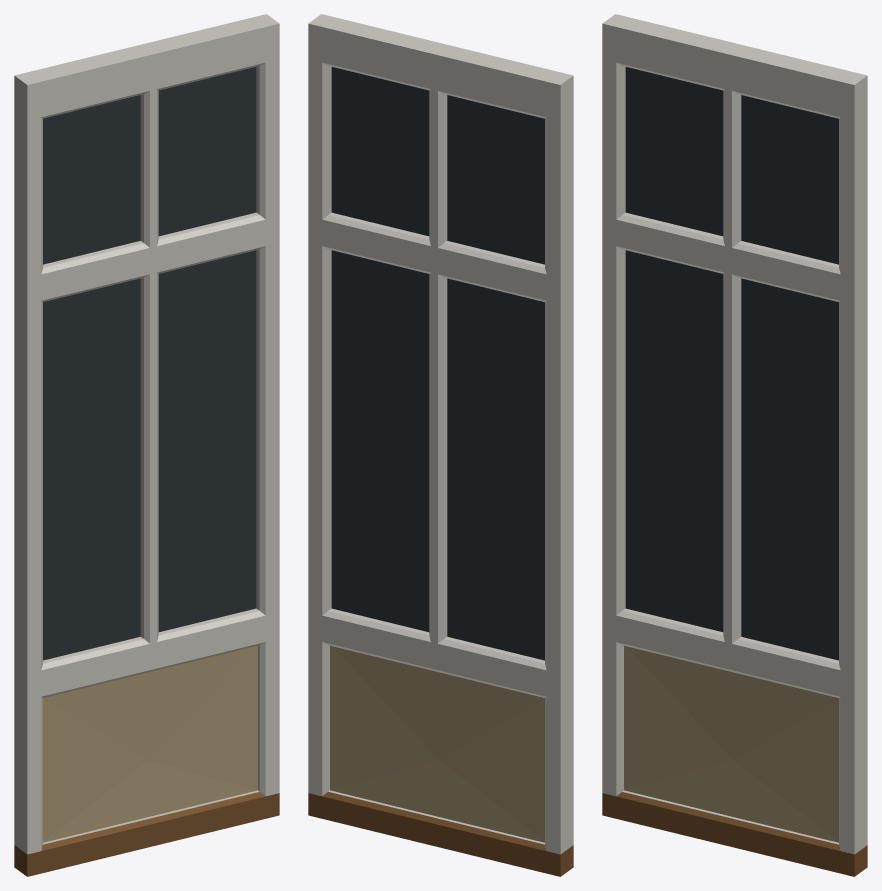
The model's file is internal-partition-wall-27d2b1.glb.
3 views of the same model, side by side, from view 1: azimuth 30°, elevation 25°; view 2: azimuth 150°, elevation 25°; view 3: azimuth 330°, elevation 25° (orthographic).
Parts seen in each view (by area): view 1: internal-partition-wall; view 2: internal-partition-wall; view 3: internal-partition-wall.
Boxes of the visible parts, left/top/right/bottom form: internal-partition-wall: left=14, top=14, right=279, bottom=876; internal-partition-wall: left=308, top=14, right=573, bottom=876; internal-partition-wall: left=602, top=14, right=867, bottom=876.
Size of the model in its own units: 1 by 3 by 0.09.
